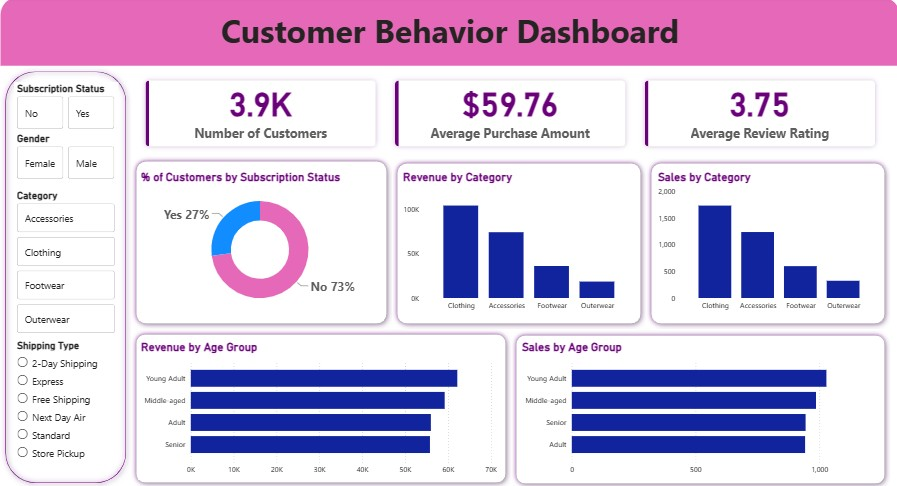

The dashboard page shown, as its layout file describes it:
{"tool":"powerbi","page":{"name":"Page 1","canvas":[1500,820],"ordinal":0},"visuals":[{"type":"cardVisual","fields":{"Data":["public customer.Number of Customers","public customer.Average Purchase Amount","public customer.Average Review Rating"]},"box":[218.3,115,1265,153.3],"z":0},{"type":"shape","box":[0,0,1500,115.4],"z":1000},{"type":"textbox","box":[0,13.4,1500,102],"z":2000},{"type":"shape","box":[218.3,265,435,288.3],"z":3000},{"type":"donutChart","title":"% of Customers by Subscription Status","fields":{"Category":["public customer.subscription_status"],"Y":["CountNonNull(public customer.customer_id)"]},"box":[230,288.3,406.7,243.3],"z":4000},{"type":"shape","box":[653.3,268.3,423.3,285],"z":5000},{"type":"shape","box":[1076.7,268.3,406.7,285],"z":6000},{"type":"clusteredColumnChart","title":"Revenue by Category","fields":{"Y":["Sum(public customer.purchase_amount)"],"Category":["public customer.category"]},"box":[666.7,288.3,395,243.3],"z":7000},{"type":"clusteredColumnChart","title":"Sales by Category","fields":{"Category":["public customer.category"],"Y":["CountNonNull(public customer.customer_id)"]},"box":[1091.7,288.3,376.7,243.3],"z":8000},{"type":"shape","box":[0,115.4,219.1,704],"z":9000},{"type":"advancedSlicerVisual","title":"Subscription Status","fields":{"Values":["public customer.subscription_status"]},"box":[23.4,142.1,173.9,83.6],"z":10000},{"type":"advancedSlicerVisual","title":"Gender","fields":{"Values":["public customer.gender"]},"box":[23.4,225.8,173.9,83.6],"z":11000},{"type":"advancedSlicerVisual","title":"Category","fields":{"Values":["public customer.category"]},"box":[23.4,319.4,173.9,245.8],"z":12000},{"type":"listSlicer","title":"Shipping Type","fields":{"Values":["public customer.shipping_type"]},"box":[23.4,570.2,173.9,212.4],"z":13000},{"type":"shape","box":[218.3,553.3,633.3,265],"z":14000},{"type":"clusteredBarChart","title":"Revenue by Age Group","fields":{"Y":["Sum(public customer.purchase_amount)"],"Category":["public customer.age_group"]},"box":[230,571.7,603.3,233.3],"z":15000},{"type":"shape","box":[851.7,555,631.7,265],"z":16000},{"type":"clusteredBarChart","title":"Sales by Age Group","fields":{"Y":["CountNonNull(public customer.customer_id)"],"Category":["public customer.age_group"]},"box":[865,571.7,603.3,233.3],"z":17000}]}

Visuals, with their boxes in screenshot pixels (x1, y1, x2, y2), scaled from the page's 1500x820 canvas onto the 897x486 screenshot:
cardVisual - public customer.Number of Customers x public customer.Average Purchase Amount: (left=131, top=68, right=887, bottom=159)
shape: (left=0, top=0, right=896, bottom=68)
textbox: (left=0, top=8, right=896, bottom=68)
shape: (left=131, top=157, right=391, bottom=328)
"% of Customers by Subscription Status" donutChart: (left=138, top=171, right=381, bottom=315)
shape: (left=391, top=159, right=644, bottom=328)
shape: (left=644, top=159, right=887, bottom=328)
"Revenue by Category" clusteredColumnChart: (left=399, top=171, right=635, bottom=315)
"Sales by Category" clusteredColumnChart: (left=653, top=171, right=878, bottom=315)
shape: (left=0, top=68, right=131, bottom=485)
"Subscription Status" advancedSlicerVisual: (left=14, top=84, right=118, bottom=134)
"Gender" advancedSlicerVisual: (left=14, top=134, right=118, bottom=183)
"Category" advancedSlicerVisual: (left=14, top=189, right=118, bottom=335)
"Shipping Type" listSlicer: (left=14, top=338, right=118, bottom=464)
shape: (left=131, top=328, right=509, bottom=485)
"Revenue by Age Group" clusteredBarChart: (left=138, top=339, right=498, bottom=477)
shape: (left=509, top=329, right=887, bottom=485)
"Sales by Age Group" clusteredBarChart: (left=517, top=339, right=878, bottom=477)
